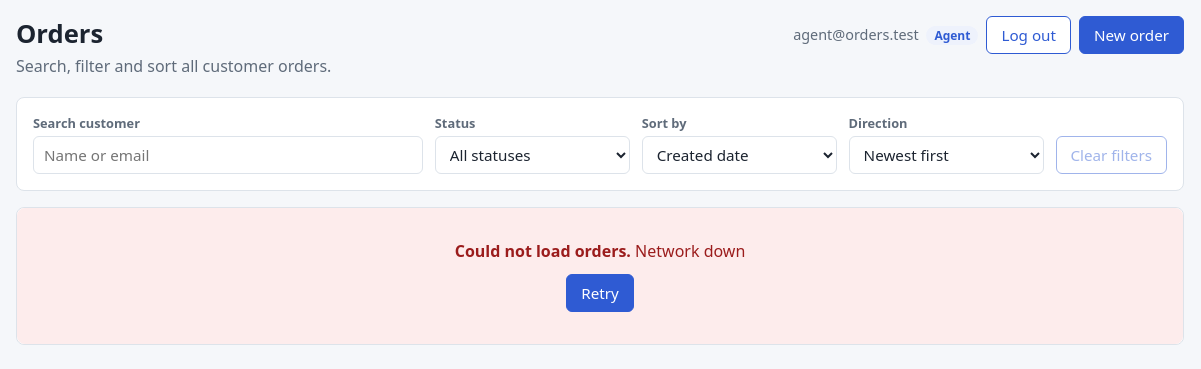
Test case: OrdersConsole: latest request wins › shows an error for the latest request and recovers with Retry
Expected: the message shows "Network down", x1=635 y1=240 x2=745 y2=262
What coordinates should you click on to do the following:
click the button "Retry"
I would click on:
 (600, 293)
Its box is x1=566 y1=274 x2=634 y2=312.
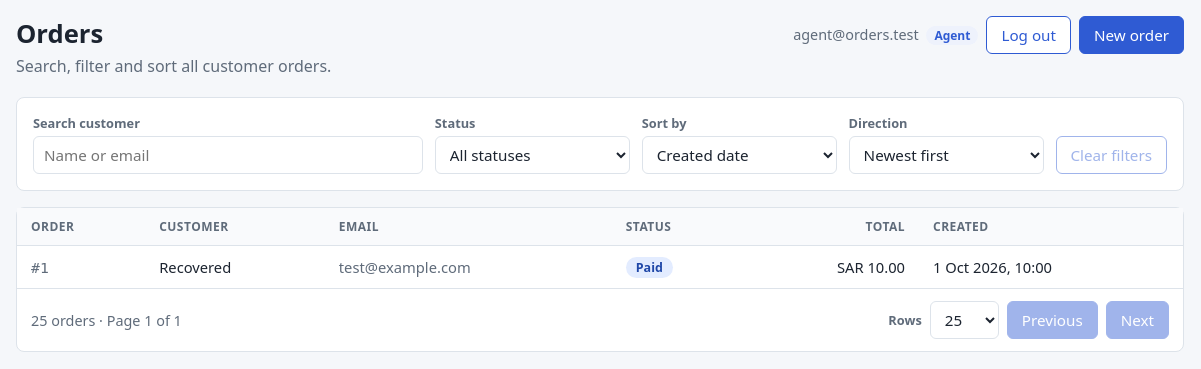
Result: the text "Recovered" is shown at x1=145 y1=246 x2=325 y2=288
